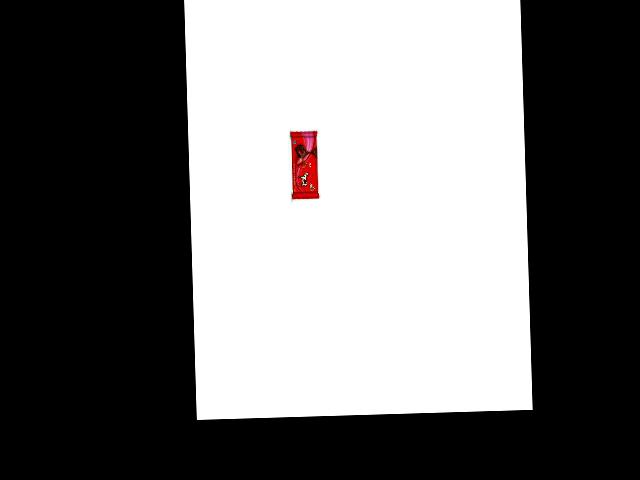chocolate: (285, 130, 319, 204)
